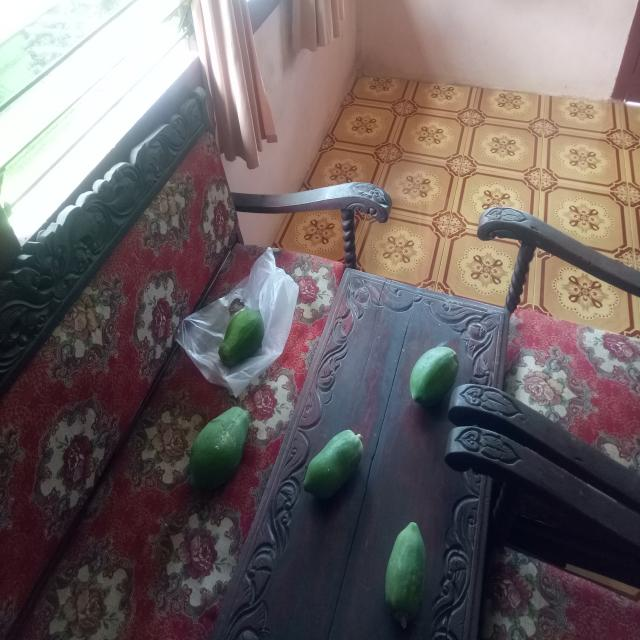Pepaya unrippen: (378, 513, 431, 614), (295, 424, 365, 493), (198, 402, 248, 486), (213, 301, 273, 368), (413, 341, 464, 419)
